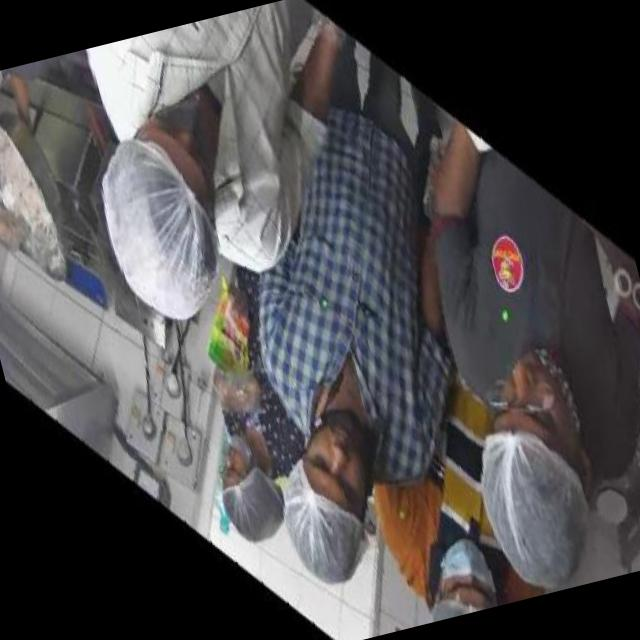hairnet: (88, 127, 227, 316), (471, 413, 602, 592), (276, 453, 376, 593), (215, 473, 288, 546), (426, 589, 486, 622)
